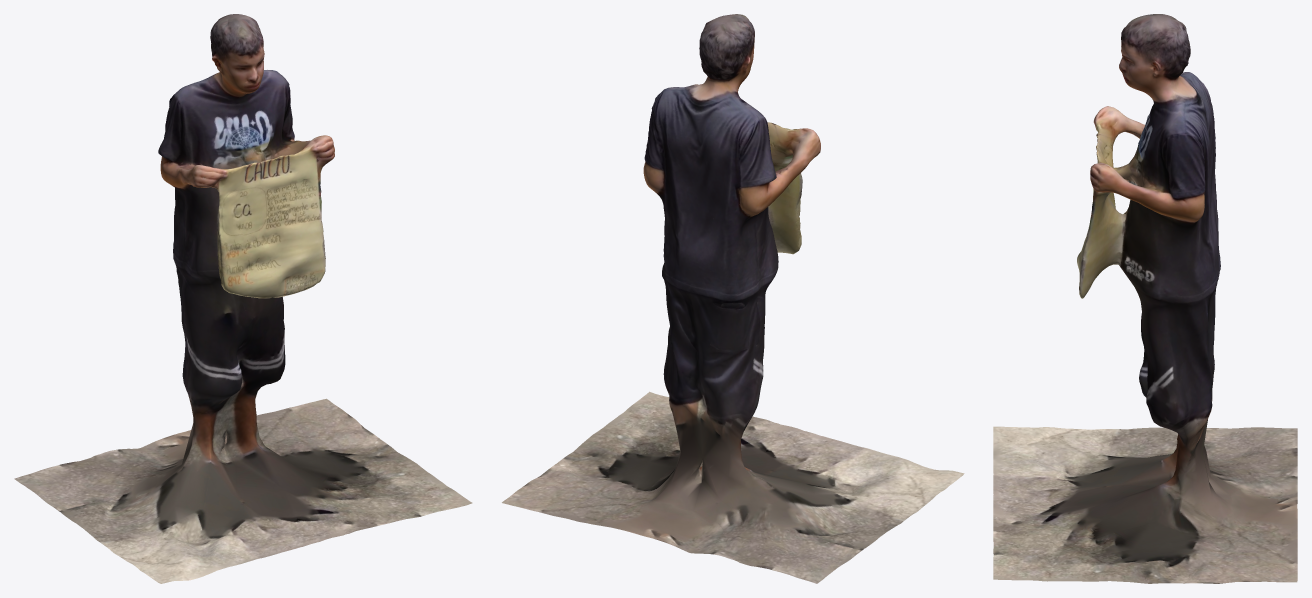
3 renders of one model, left to right at view 1: azimuth 30°, elevation 25°; view 2: azimuth 150°, elevation 25°; view 3: azimuth 270°, elevation 25°, orthographic. The views are drawn at different scales.
Parts seen in each view (by area): view 1: 3DModel; view 2: 3DModel; view 3: 3DModel.
Boxes of the visible parts, box(x1,y1,x2,y2) form: 3DModel: box(14, 14, 472, 583); 3DModel: box(502, 14, 964, 583); 3DModel: box(993, 14, 1297, 583).
Bounding box in the file's own units: 0.9731 × 1.42 × 0.7906.
Materials: 1 (1 with a texture image).
